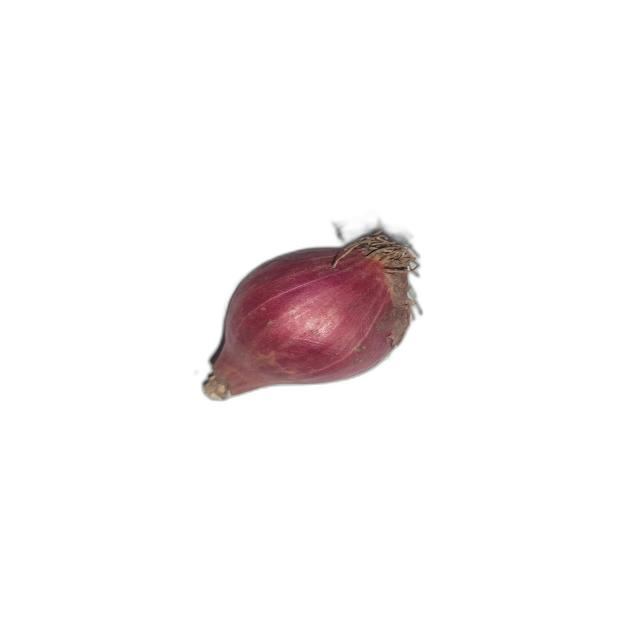onion: (201, 230, 419, 402)
